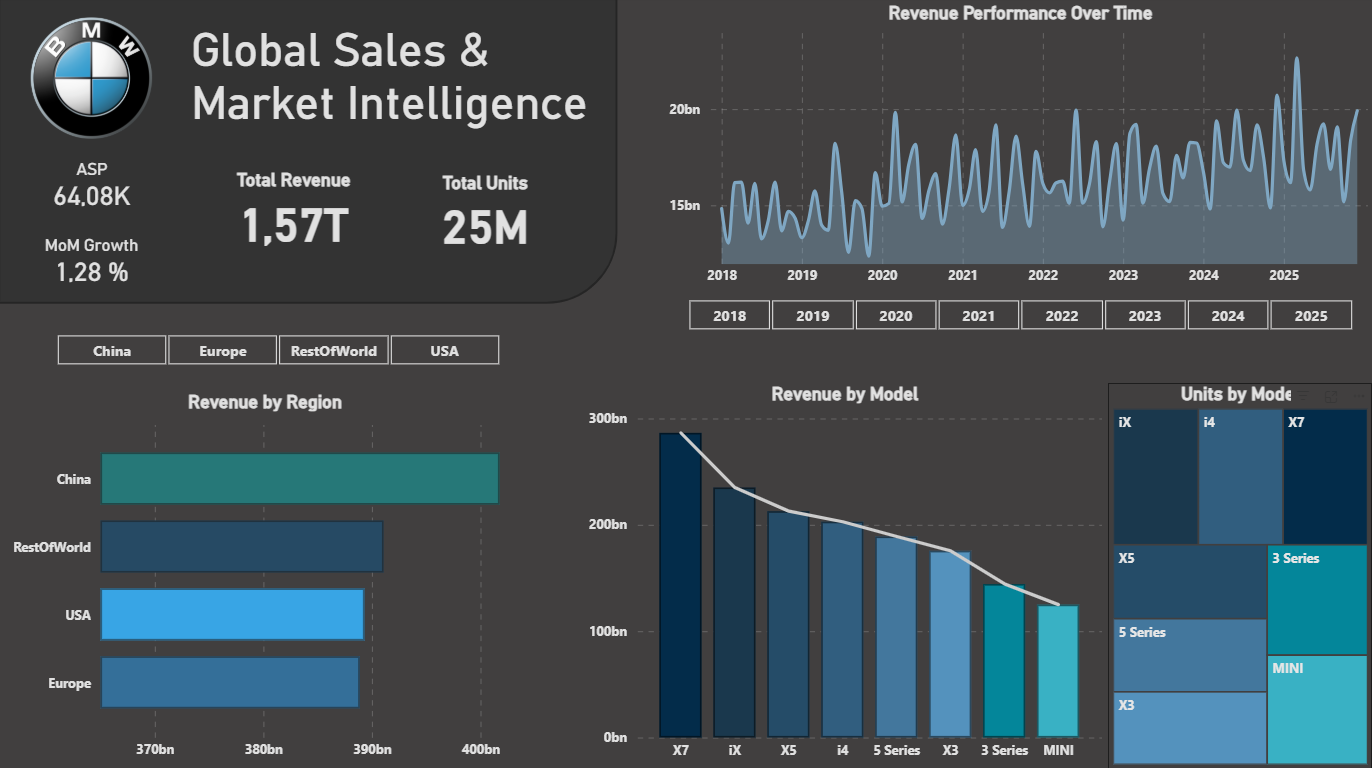

What the dashboard file says about the page in this screenshot:
{"tool":"powerbi","page":{"name":"Sales Performance & Growth","canvas":[1280,720],"ordinal":0},"visuals":[{"type":"shape","box":[0,0,576.7,286.5],"z":0},{"type":"card","title":"Total Revenue","fields":{"Values":["bmw_measures.Total Revenue"]},"box":[181.4,161.4,187.7,77.1],"z":1000},{"type":"card","title":"MoM Growth","fields":{"Values":["bmw_measures.% MoM Growth"]},"box":[20.9,222.2,133.3,49],"z":2000},{"type":"card","title":"Total Units","fields":{"Values":["bmw_measures.Total Units"]},"box":[386.1,164.1,134.6,74.7],"z":3000},{"type":"card","title":"ASP","fields":{"Values":["bmw_measures.ASP"]},"box":[31.4,151.3,111,49.1],"z":4000},{"type":"areaChart","title":"Revenue Performance Over Time","fields":{"Category":["bmw_project dim_date.sales_date.Variation.Date Hierarchy.Year"],"Y":["bmw_measures.Total Revenue"]},"box":[624.8,5.4,654.7,272.9],"z":5000},{"type":"clusteredBarChart","title":"Revenue by Region","fields":{"Category":["bmw_project dim_region.region"],"Y":["bmw_measures.Total Revenue"]},"box":[7.3,368.2,482.4,351.8],"z":6000},{"type":"treemap","title":"Units by Model","fields":{"Group":["bmw_project dim_model.model"],"Values":["bmw_measures.Total Units"]},"box":[1032.8,360,246.6,360],"z":7000},{"type":"slicer","title":"Year Slicer","fields":{"Values":["bmw_project dim_market_trends.sales_date.Variation.Date Hierarchy.Year"]},"box":[624.8,278.4,654.7,32.6],"z":8000},{"type":"lineClusteredColumnComboChart","title":"Revenue by Model","fields":{"Category":["bmw_project fact_sales.model"],"Y":["bmw_measures.Total Revenue"],"Y2":["Sum(bmw_project fact_sales.revenue_eur)"]},"box":[545,360,487.9,360],"z":9000},{"type":"slicer","title":"Year Slicer","fields":{"Values":["bmw_project dim_market_trends.region"]},"box":[31.7,311,458.8,34.5],"z":10000},{"type":"image","box":[20.6,14.7,133.6,122.8],"z":11000},{"type":"textbox","box":[174.9,20.6,389,111],"z":12000}]}

Visuals, with their boxes in screenshot pixels (x1, y1, x2, y2), scaled from the page's 1280x720 canvas onto the 1372x768 screenshot:
shape: locate(0, 0, 618, 306)
"Total Revenue" card: locate(194, 172, 396, 254)
"MoM Growth" card: locate(22, 237, 165, 289)
"Total Units" card: locate(414, 175, 558, 255)
"ASP" card: locate(34, 161, 153, 214)
"Revenue Performance Over Time" areaChart: locate(670, 6, 1371, 297)
"Revenue by Region" clusteredBarChart: locate(8, 393, 525, 767)
"Units by Model" treemap: locate(1107, 384, 1371, 767)
"Year Slicer" slicer: locate(670, 297, 1371, 332)
"Revenue by Model" lineClusteredColumnComboChart: locate(584, 384, 1107, 767)
"Year Slicer" slicer: locate(34, 332, 526, 369)
image: locate(22, 16, 165, 147)
textbox: locate(187, 22, 604, 140)
